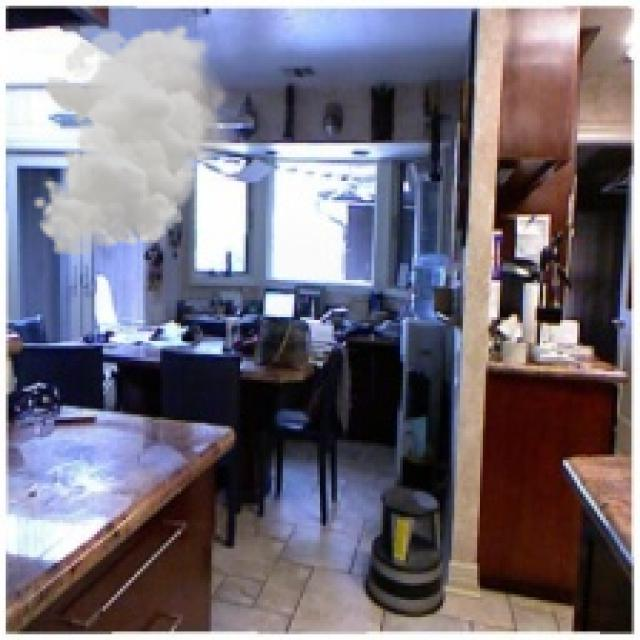smoke: (32, 23, 237, 257)
